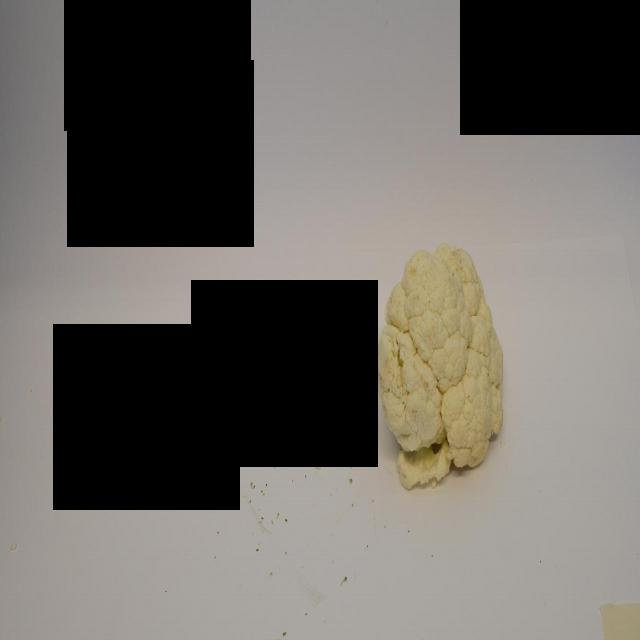cauliflower: (376, 242, 507, 492)
